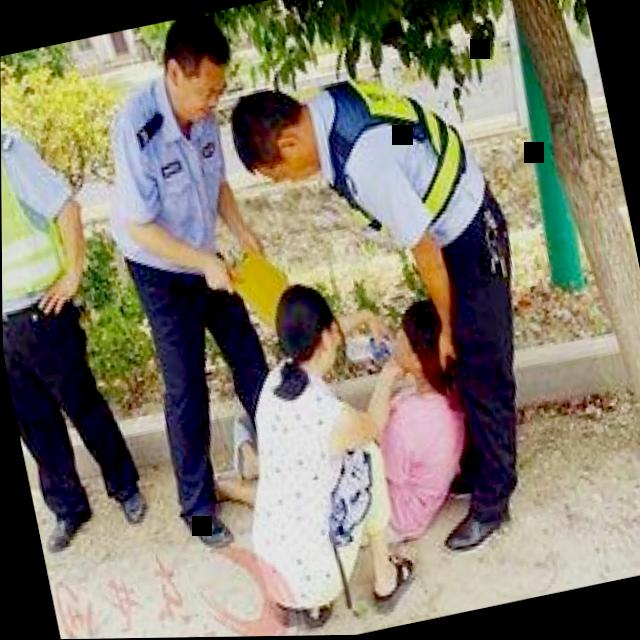Fall-Detected: (310, 282, 509, 571)
